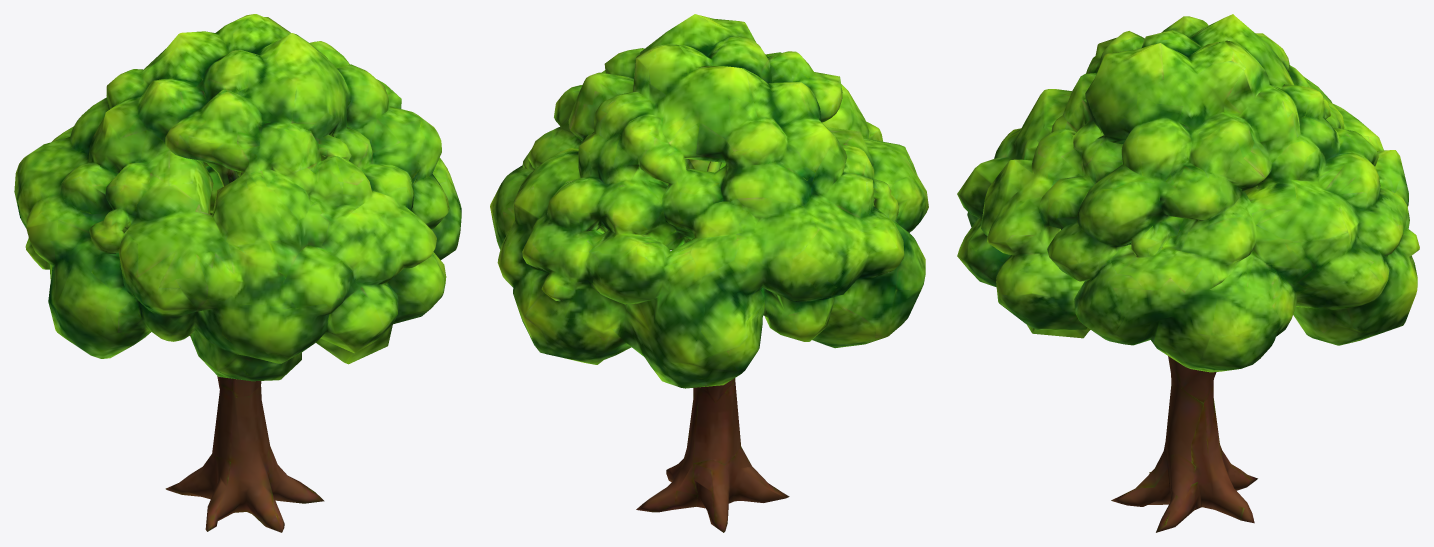
File: big_tree.glb
3 renders of one model, left to right at view 1: azimuth 30°, elevation 25°; view 2: azimuth 150°, elevation 25°; view 3: azimuth 270°, elevation 25°, orthographic.
Size of the model in its own units: 1.72 by 1.91 by 1.69.
1 material, 1 textured.
